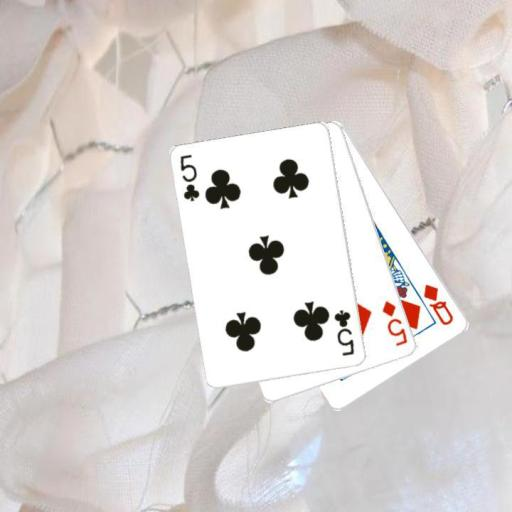5C: (332, 307, 357, 358), (177, 152, 201, 204)
5D: (379, 297, 410, 348)
QD: (420, 281, 456, 327)
